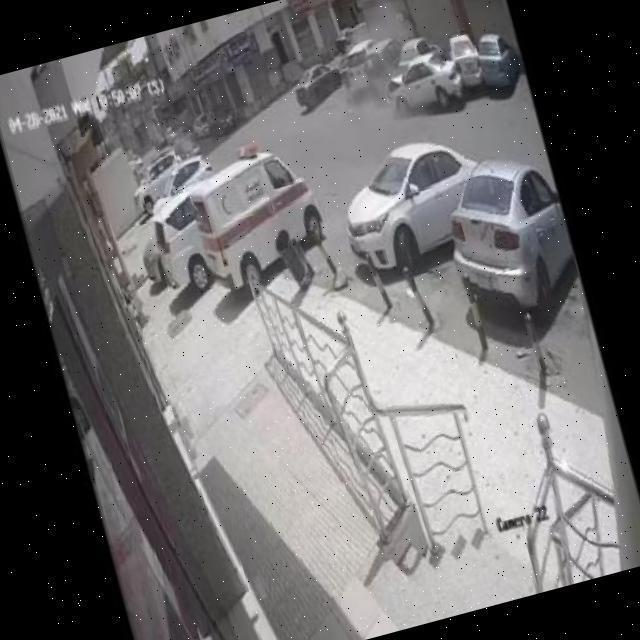accident: (373, 25, 479, 137)
